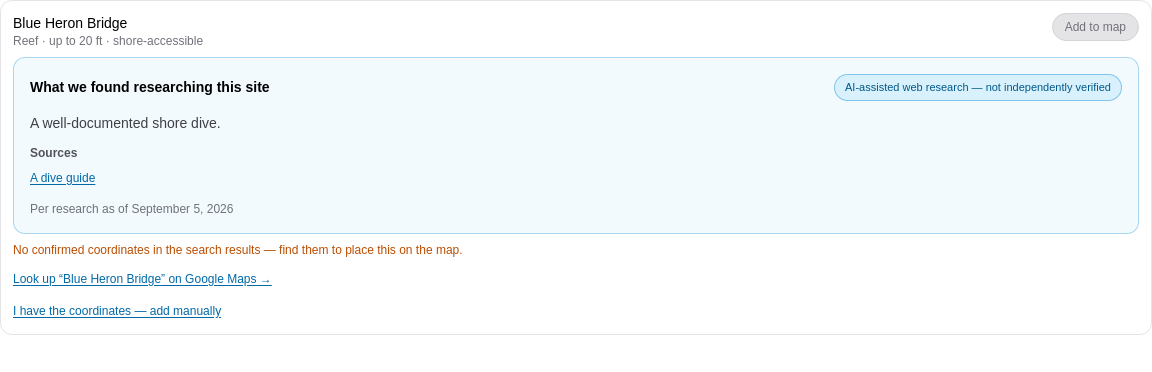
Test case: SiteDiscoveryCandidates — no-coordinates candidate › submits the manually-entered coordinates to the add route and reports the new site
Click the button "I have the coordinates — add manually" at (117, 310), box [13,302,221,318]
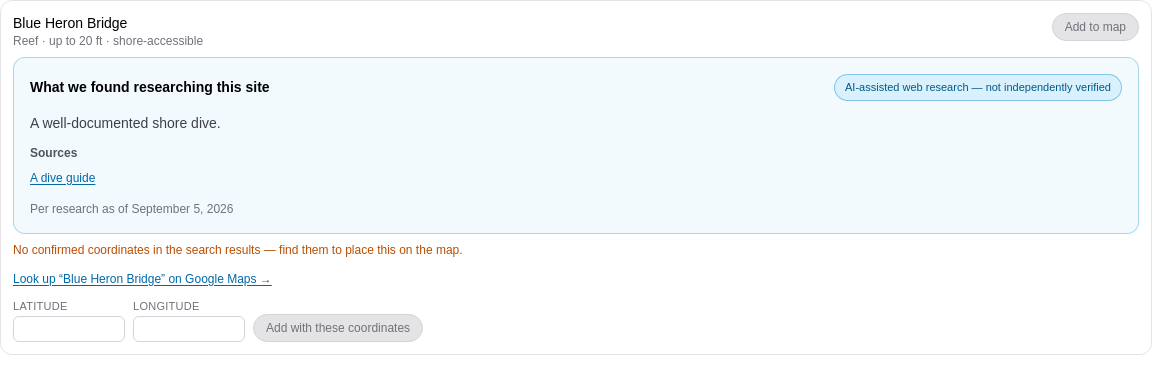
Type "26.78" into the field labelled "Latitude" at (69, 329), box [13,316,125,342]
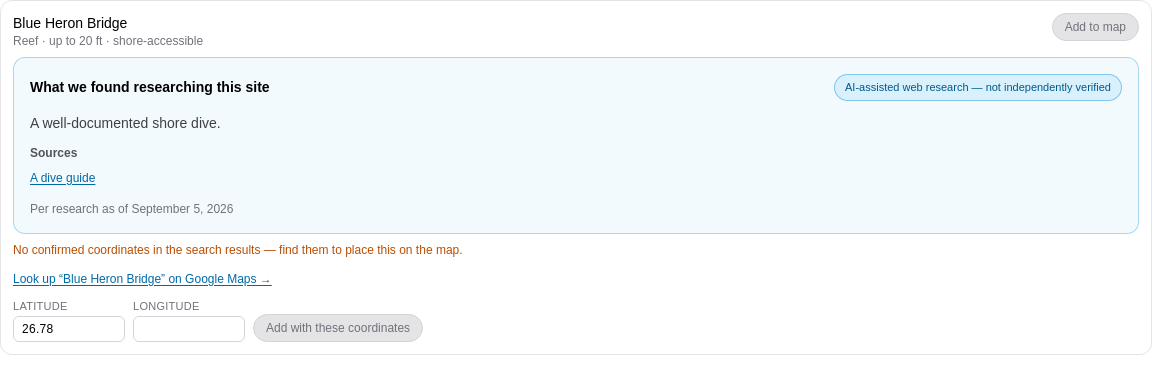
Type "-80.04" into the field labelled "Longitude" at (189, 329), box [133,316,245,342]
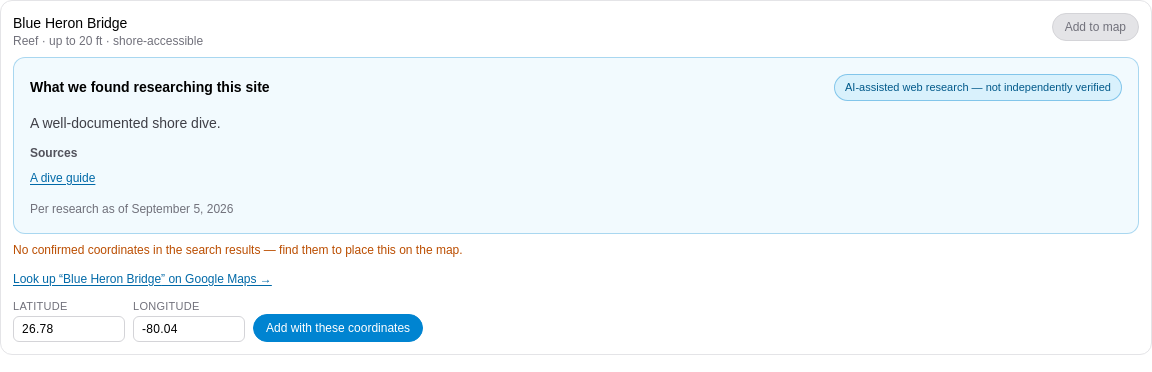
Click the button "Add with these coordinates" at (338, 328), box [253,314,423,342]
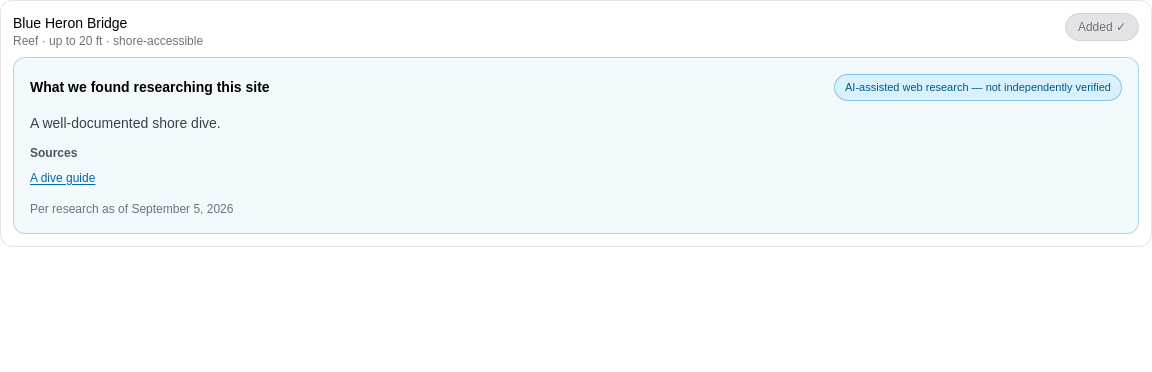
Expected: the button "Add with these coordinates" is gone
